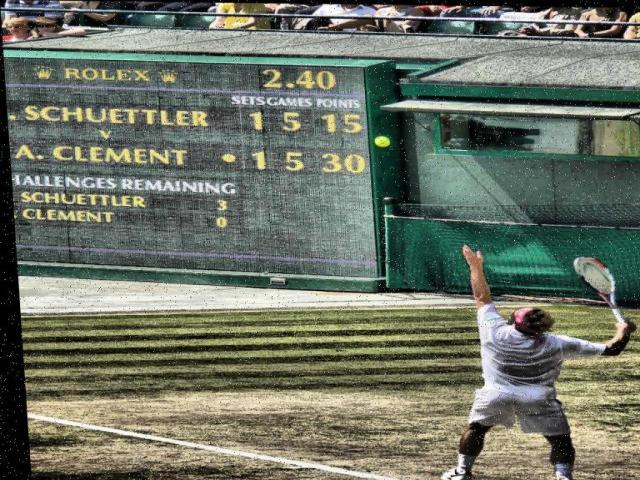tennis-ball: (374, 136, 391, 148)
